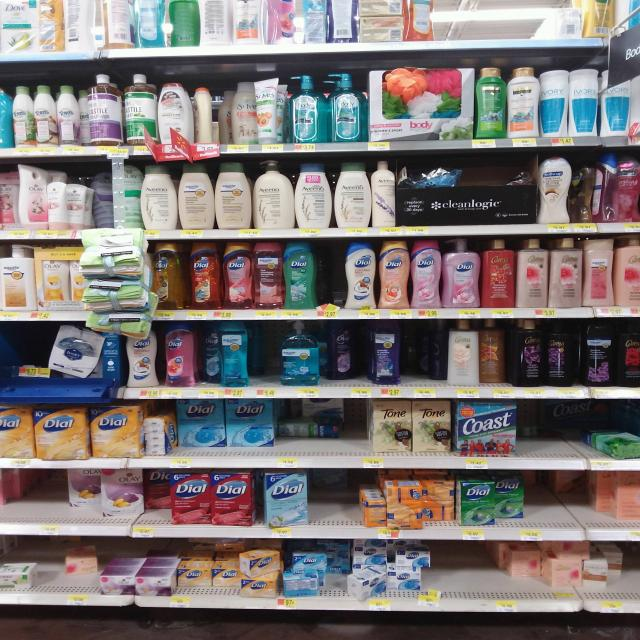void: (528, 471, 560, 542), (474, 542, 506, 613), (343, 396, 372, 472), (31, 469, 63, 535), (441, 541, 471, 611), (590, 470, 617, 540), (434, 0, 469, 50), (2, 470, 28, 535), (564, 470, 587, 540), (570, 401, 593, 469), (410, 320, 430, 398), (473, 0, 502, 48), (506, 1, 532, 49), (532, 0, 552, 50)
